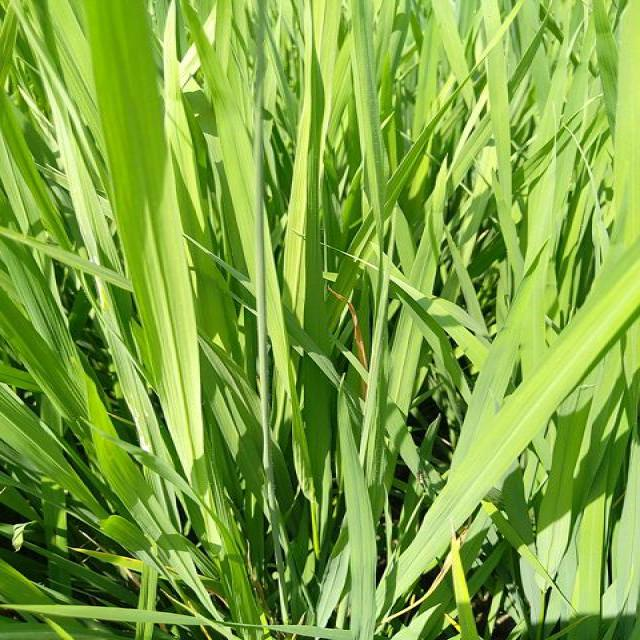Rice: (90, 0, 207, 473), (384, 384, 535, 640), (540, 309, 636, 640), (0, 205, 90, 519), (278, 41, 324, 519), (85, 470, 208, 610), (203, 29, 256, 279), (390, 169, 447, 384), (484, 0, 524, 283), (343, 0, 388, 229), (337, 393, 373, 640), (560, 212, 638, 308), (608, 6, 640, 240), (409, 18, 444, 140)
